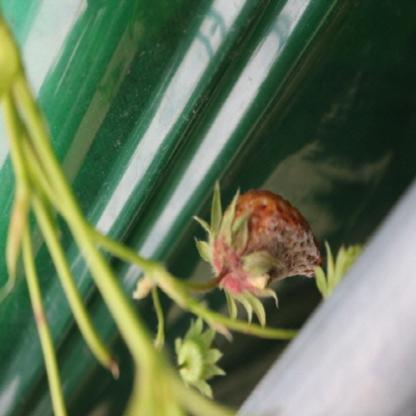Strawberry_Gray_Mold: (192, 180, 326, 330)
